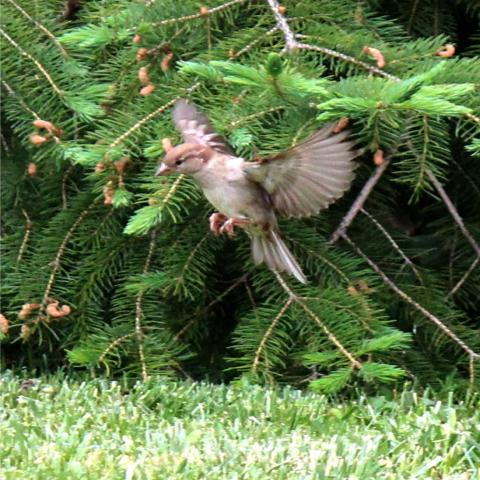bird: (151, 96, 360, 285)
